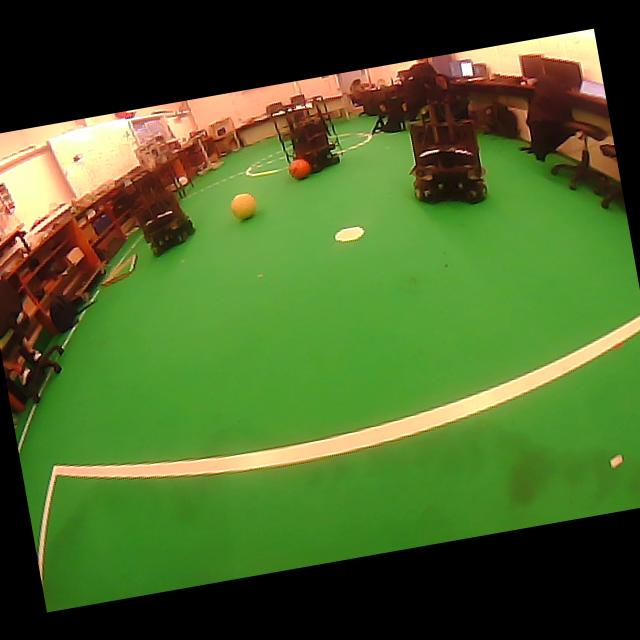ball: (231, 193, 255, 219), (289, 158, 311, 178)
robot: (409, 102, 487, 203), (133, 172, 195, 255), (272, 96, 339, 171)
